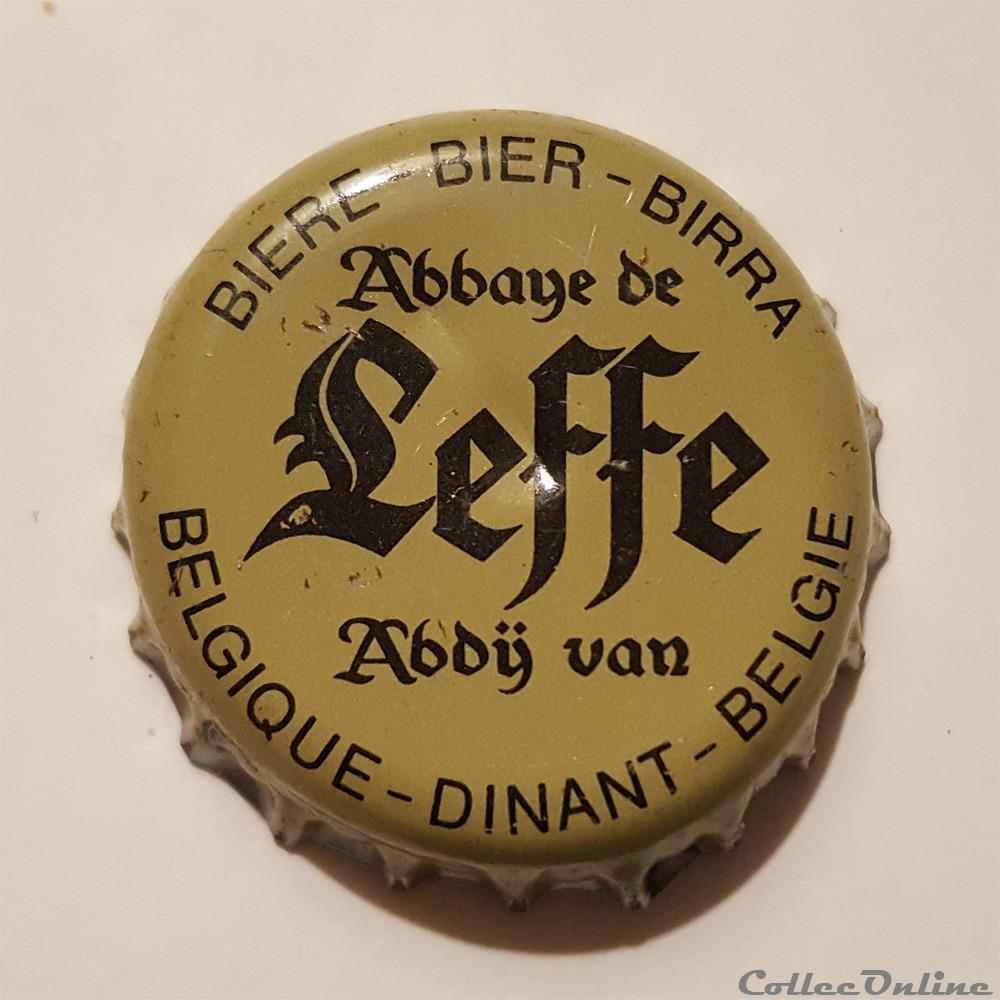metal: (112, 110, 891, 908)
